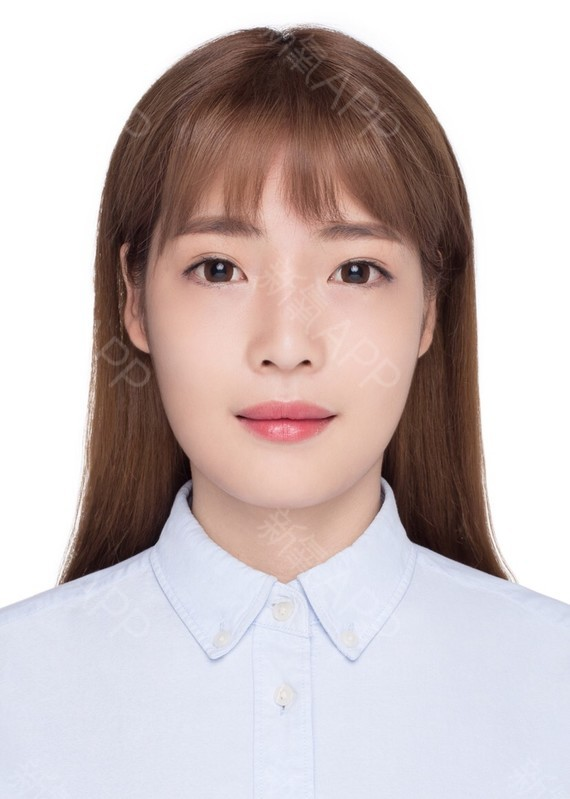unmask: (153, 223, 424, 506)
